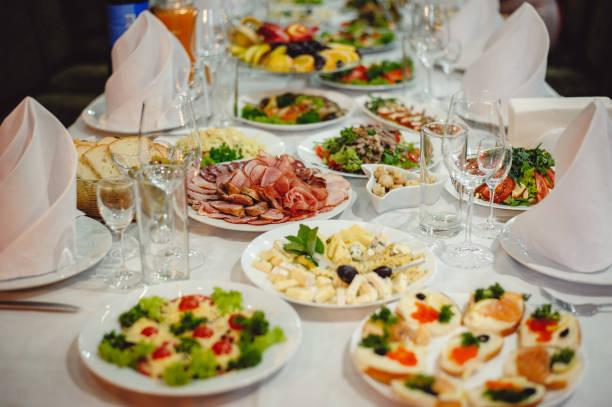Braised Crucian Carp: (78, 281, 297, 398), (352, 296, 582, 406), (240, 218, 432, 308), (182, 154, 349, 232)
